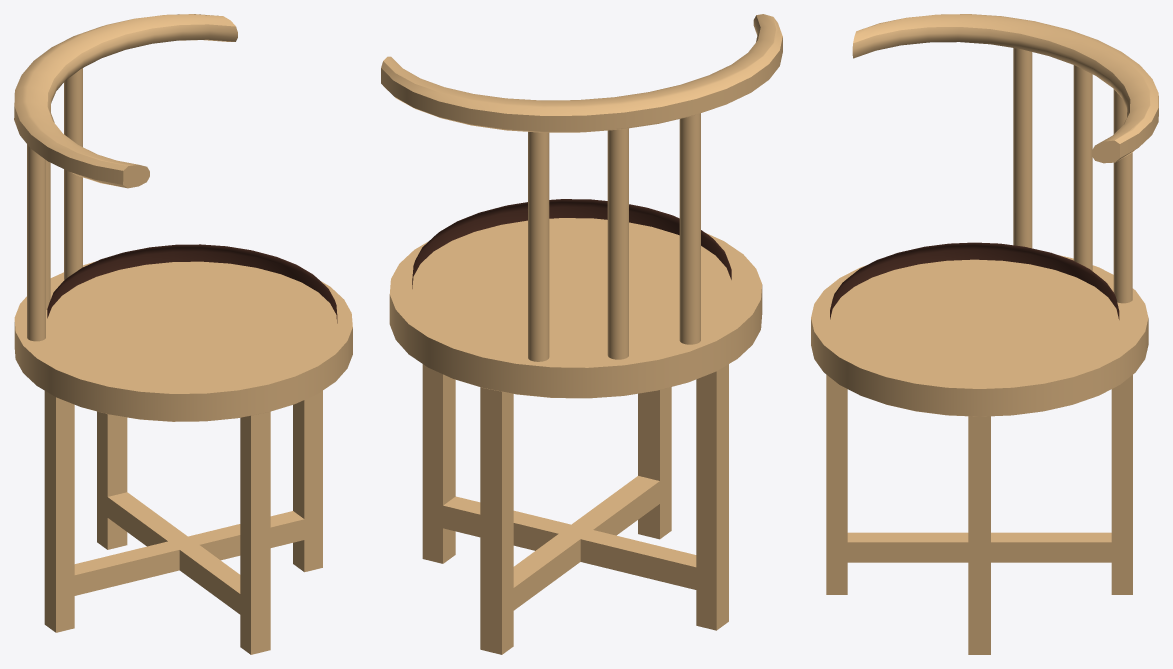
The model's file is kursi teras.fbx.
3 renders of one model, left to right at view 1: azimuth 30°, elevation 25°; view 2: azimuth 150°, elevation 25°; view 3: azimuth 270°, elevation 25°, orthographic. The views are drawn at different scales.
Parts seen in each view (by area): view 1: Cube.001; view 2: Cube.001; view 3: Cube.001.
Boxes of the visible parts, x1,y1,x2,y2 form: Cube.001: (14,14,352,654); Cube.001: (381,14,782,654); Cube.001: (811,14,1158,654).
Bounding box in the file's own units: 73.5 × 118 × 73.5.
